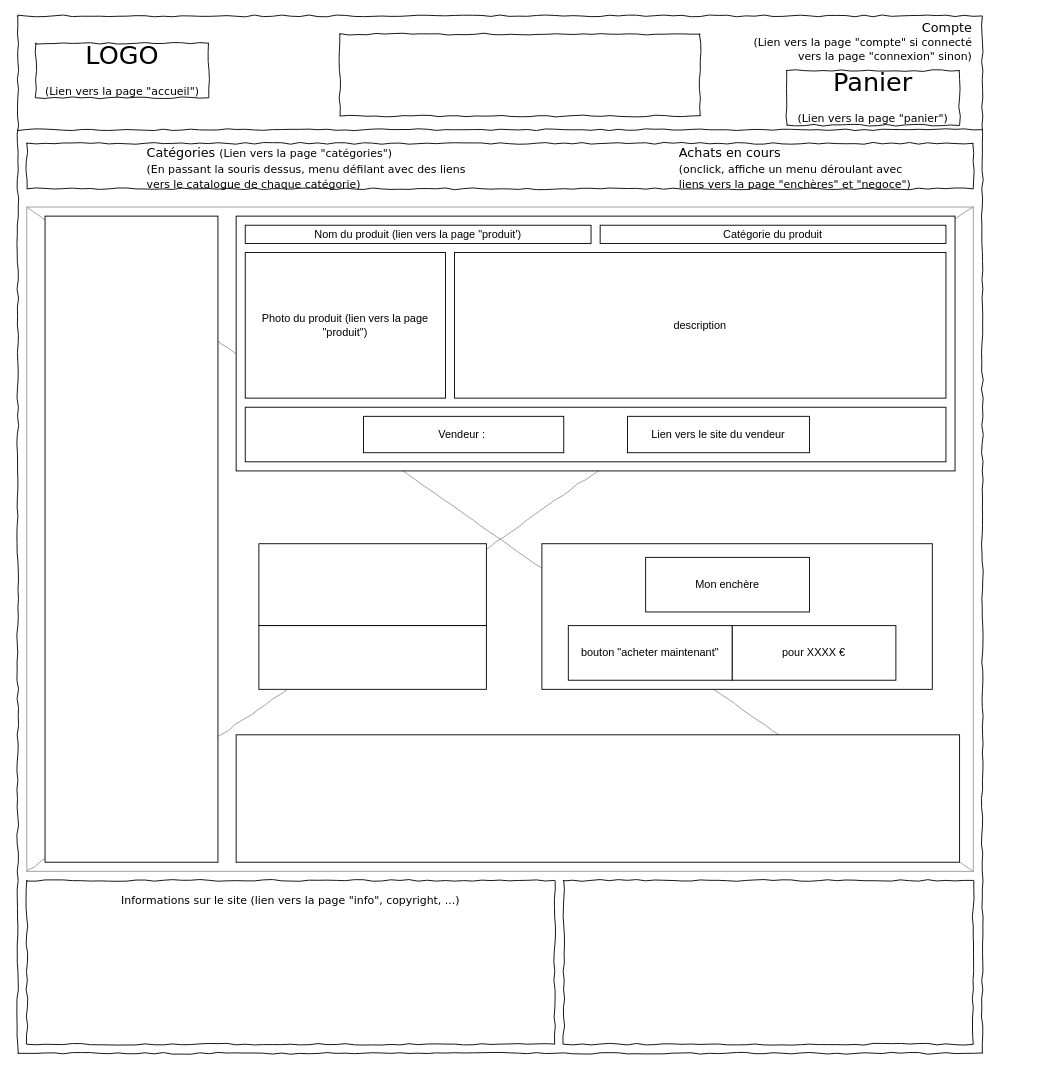
Some shapes in this 1043 by 1069 pixel diagram are drawn without their labels. Here are the shapes that lost their labels. From the top down, the box of each, then its label:
(339, 33, 700, 116): Bienvenue ...
(44, 215, 218, 862): Produits en cours d'enchère (cliquer sur un produit permet de changer d'enchère)
(258, 543, 486, 626): Date de fin de l'enchère
(258, 625, 486, 689): Temps restant
(235, 734, 960, 862): Règlement des enchères
(563, 880, 973, 1044): Nous contacter
